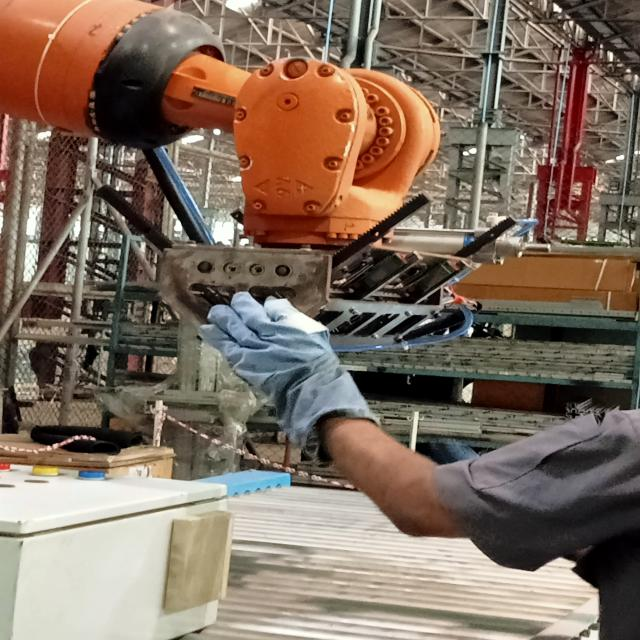Gloves-Detection: (195, 283, 386, 475)
